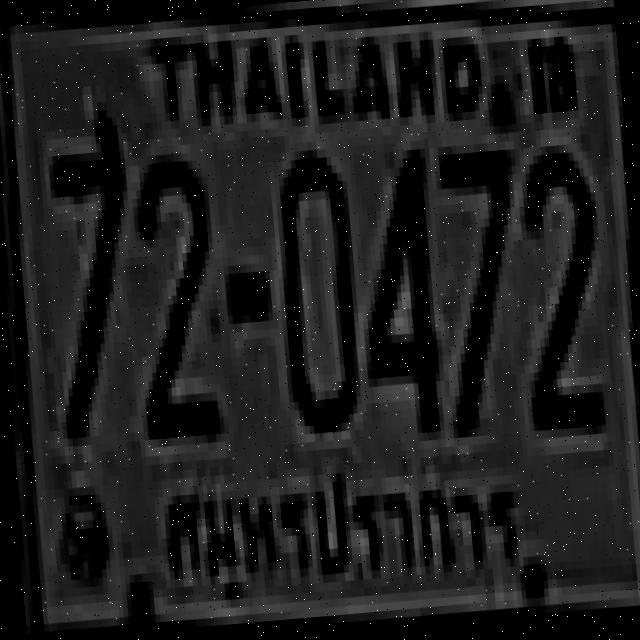0: (267, 143, 362, 423)
2: (123, 138, 224, 436), (507, 138, 607, 426)
4: (348, 140, 443, 428)
7: (34, 104, 142, 434), (428, 137, 528, 425)
SamutPrakan: (152, 438, 528, 618)
